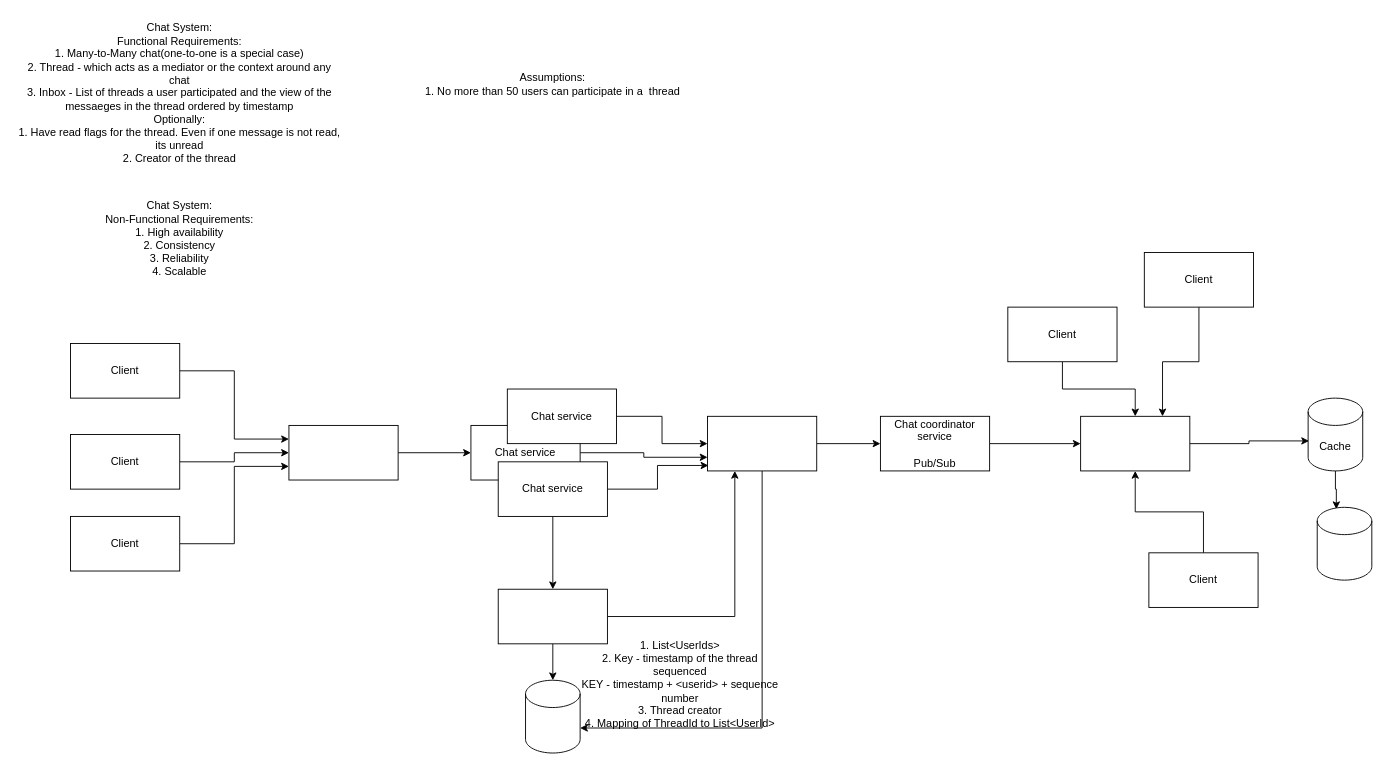
Image size: 1388x769. Some labels were removed from this diagram. The centre of each missing label's shape, as x and y in pixels:
"Chat thread context service" goes at [762,443].
"KEY-VALUE STORE" goes at [1344,543].
"Load Balancer" goes at [343,452].
"Notification Service" goes at [1135,443].
"User service" goes at [552,616].
